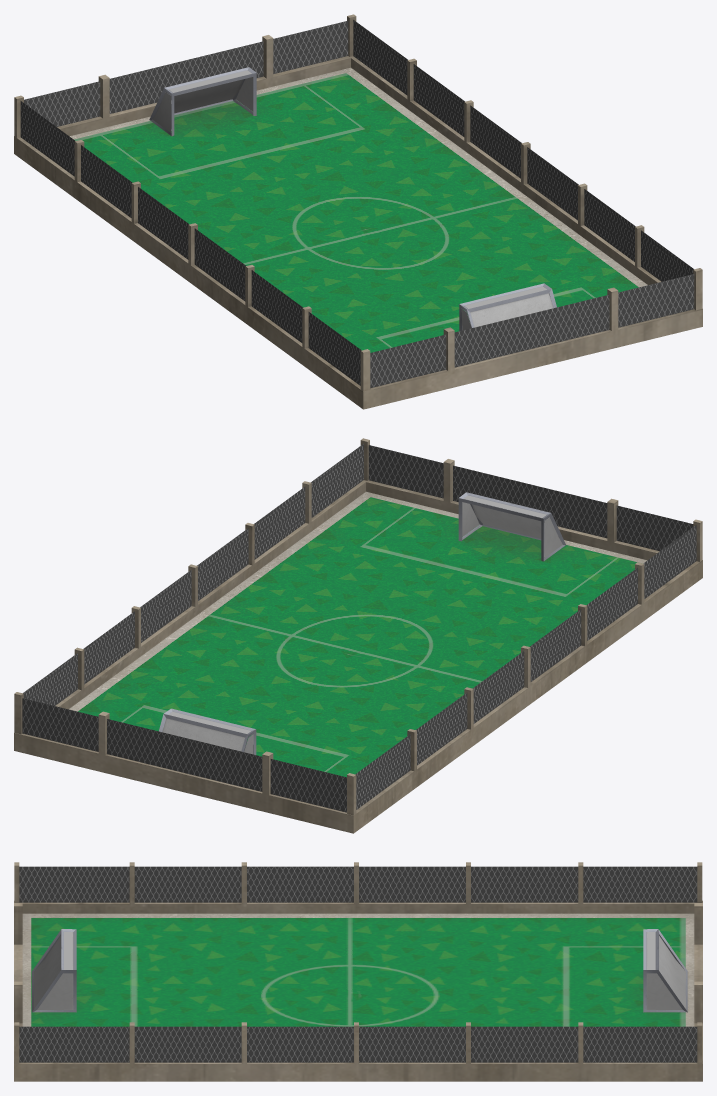
The model's file is Bat_Cite_5.2.fbx.
The picture shows the model from 3 angles, top to bottom: view 1: azimuth 30°, elevation 25°; view 2: azimuth 150°, elevation 25°; view 3: azimuth 270°, elevation 25°; orthographic projection.
Parts seen in each view (by area): view 1: Bat_Cite_5.2; view 2: Bat_Cite_5.2; view 3: Bat_Cite_5.2.
Boxes of the visible parts, left/top/right/bottom form: Bat_Cite_5.2: left=14, top=14, right=702, bottom=409; Bat_Cite_5.2: left=14, top=438, right=702, bottom=833; Bat_Cite_5.2: left=14, top=862, right=702, bottom=1081.
Size of the model in its own units: 2921 by 468 by 5206.
